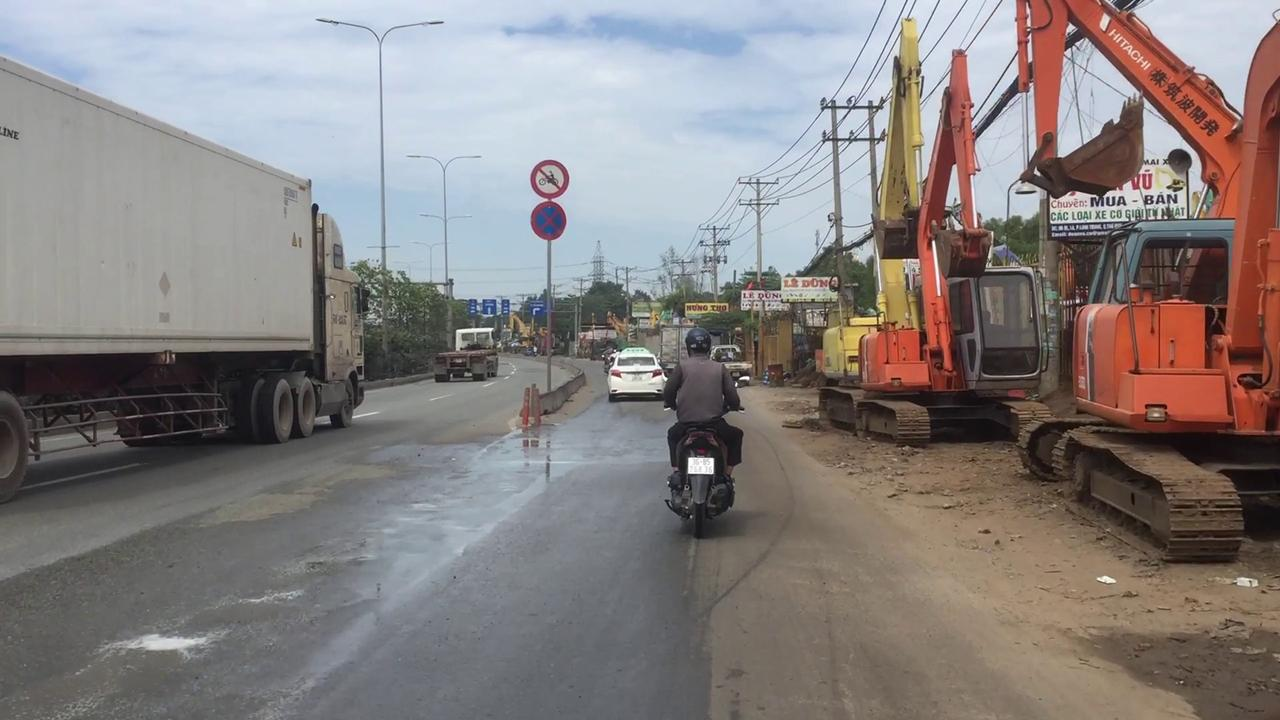DP.135: (524, 202, 572, 239)
P.103b: (528, 159, 570, 198)
